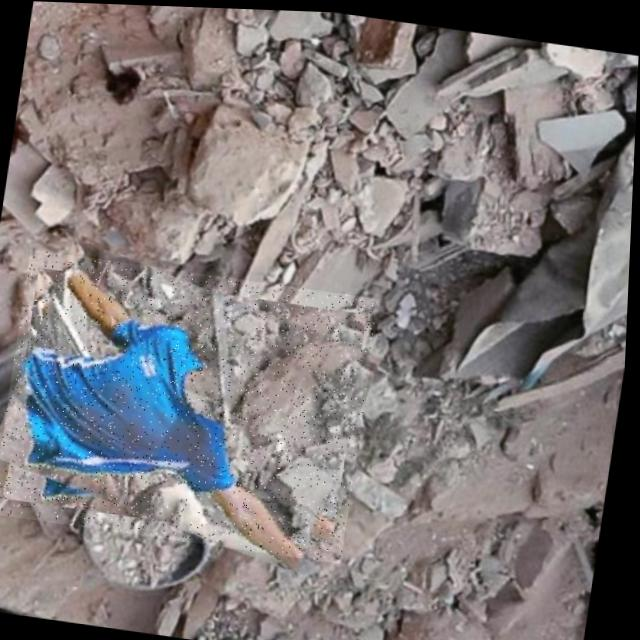Person in Rubble: (0, 248, 382, 561)
